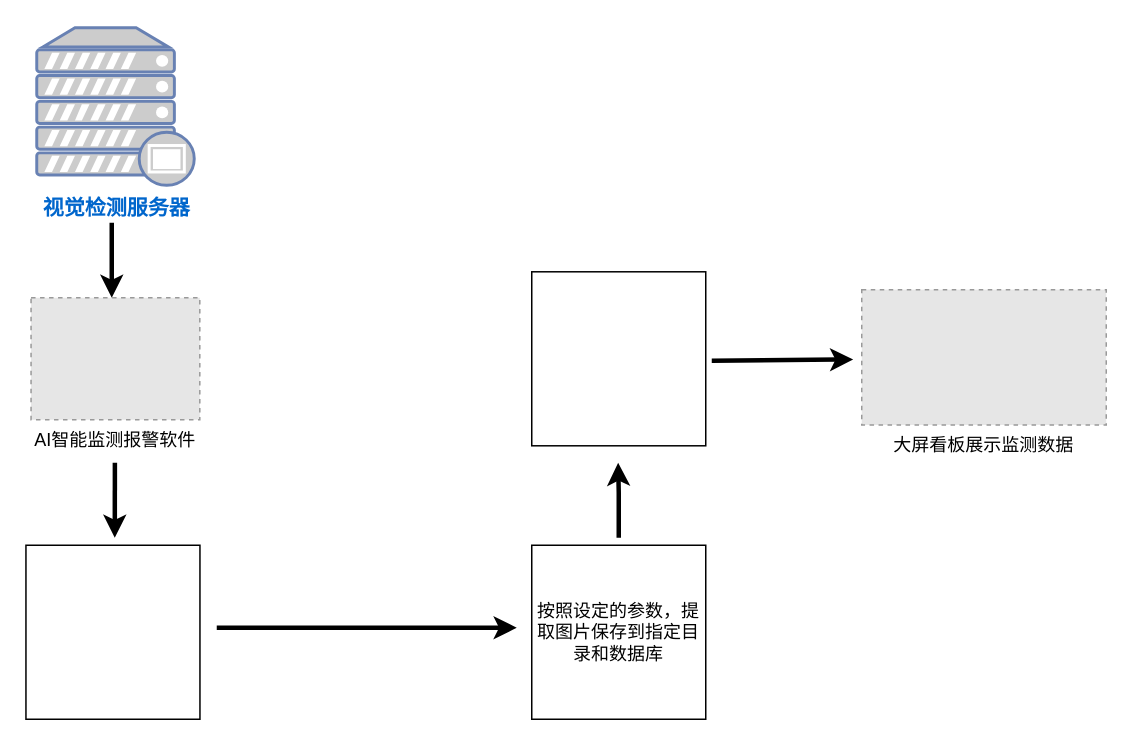
Some shapes in this 1134 by 746 pixel diagram are drawn without their labels. Grey dashed boxes stand in for pictures. The shapes that lost their labels are listed below. From the top down, each one's centre as x and y in pixels, then its label:
the point at 618,358: AI算法/深度学习等算法，进行图片识别，输出检测结果、异常数据结果
the point at 112,631: 设置每个摄像头的图片提取范围、质量、频率、报警值等参数，生成监测模型
